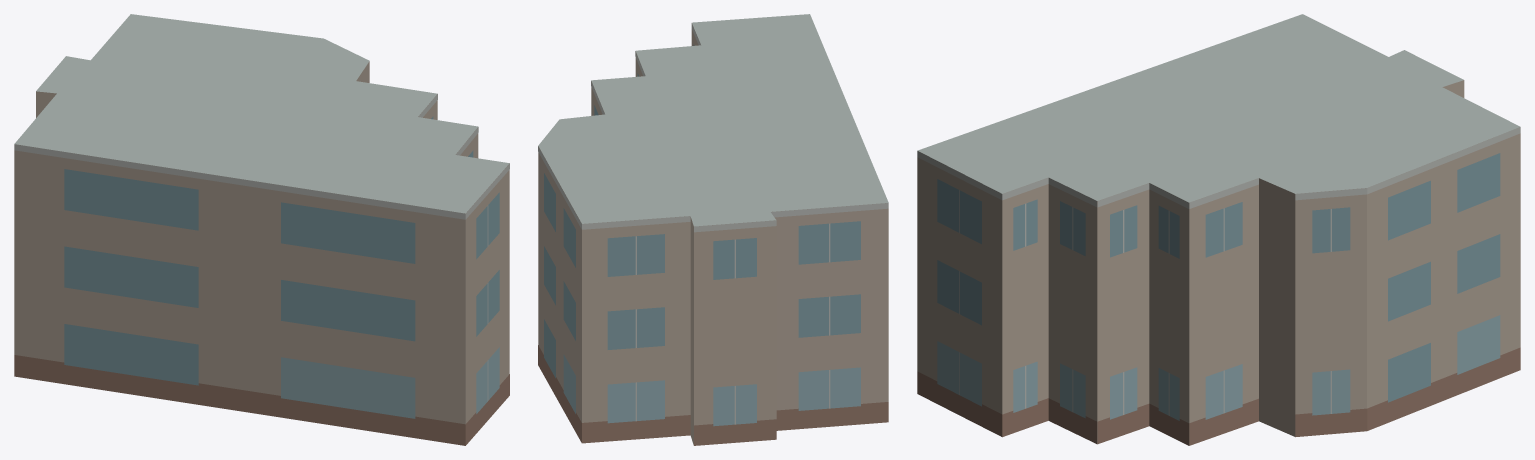
File: survey-upis-32499716.glb
The picture shows the model from 3 angles, left to right: view 1: azimuth 30°, elevation 25°; view 2: azimuth 150°, elevation 25°; view 3: azimuth 270°, elevation 25°; orthographic projection. The views are drawn at different scales.
Visible parts, largest first — view 1: survey-upis-32499716.tmp; view 2: survey-upis-32499716.tmp; view 3: survey-upis-32499716.tmp.
Part boxes in pixels (left/top/right/bottom): survey-upis-32499716.tmp: left=14, top=14, right=509, bottom=445; survey-upis-32499716.tmp: left=538, top=14, right=888, bottom=445; survey-upis-32499716.tmp: left=917, top=14, right=1520, bottom=445.
Bounding box in the file's own units: 15.23 × 9.15 × 20.58.
